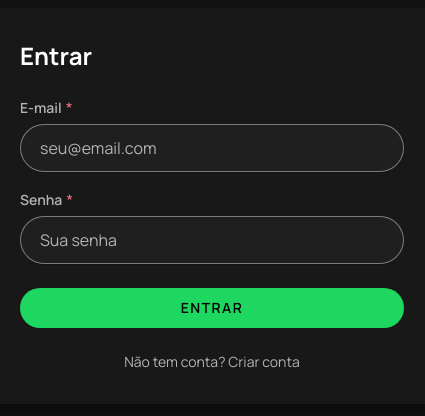
Test: LoginForm › shows "E-mail ou senha inválidos." on 401
The image size is (425, 416).
Type "x@x.com" into the field labelled "E-mail". click: (212, 148)
box: [20,124,404,172]
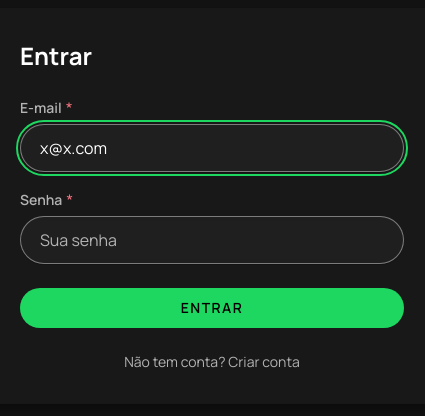
Type "wrongpass" into the password field labelled "Senha". click: (212, 240)
box: [20,216,404,264]
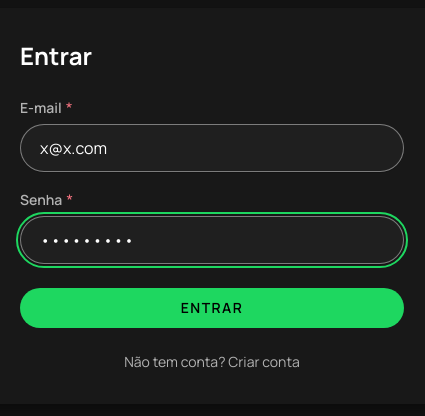
Click the button "Entrar". click: (212, 308)
box: [20,288,404,328]
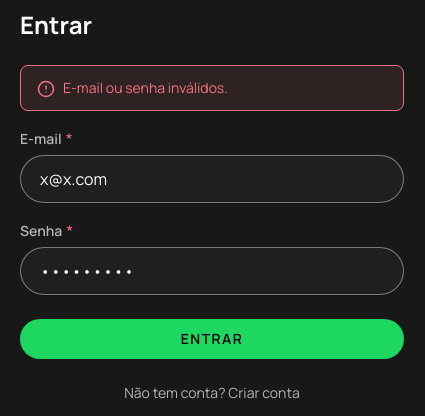
expect the text "E-mail ou senha inválidos." is shown: met, box [63,78,228,97]
